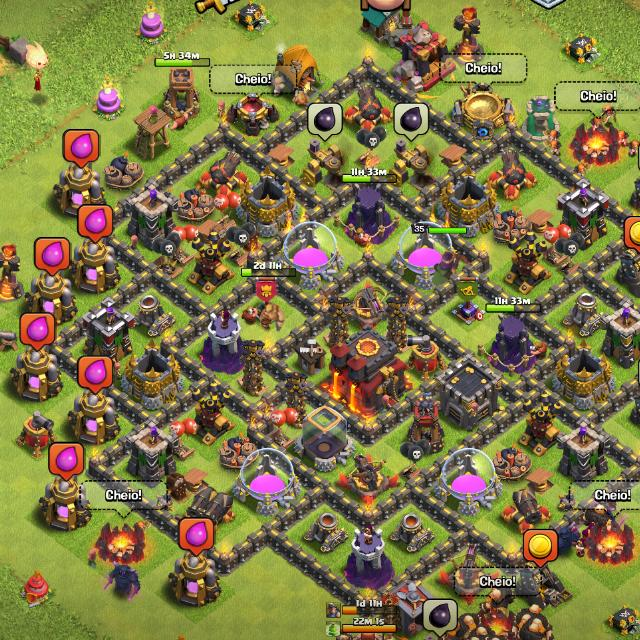ElixirNegro: (308, 102, 344, 142), (423, 599, 459, 638), (394, 103, 430, 142)
FullCoin: (522, 530, 560, 569), (624, 215, 640, 256)
FullElixir: (62, 128, 100, 169), (34, 235, 71, 277), (18, 312, 56, 351), (77, 203, 113, 244), (48, 443, 86, 481), (77, 356, 114, 395), (179, 518, 215, 556)
